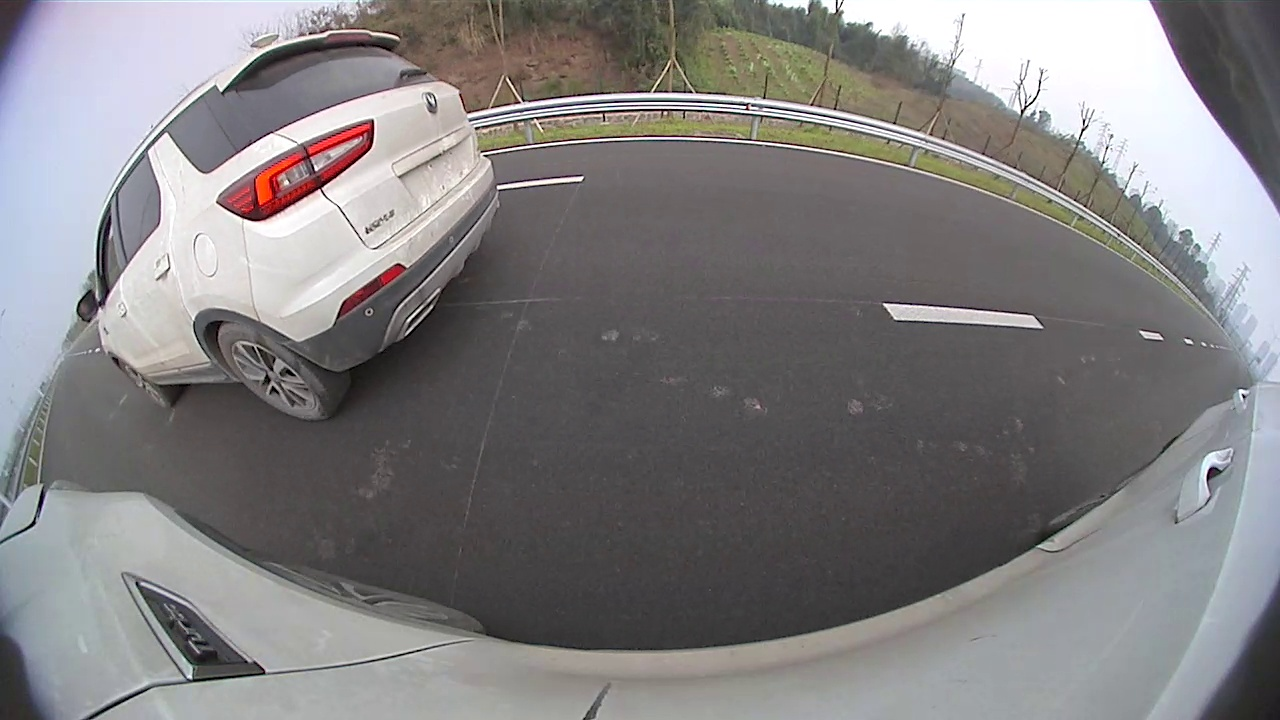car: (1, 114, 452, 527)
front: (398, 206, 448, 279)
rear: (56, 353, 193, 516)
